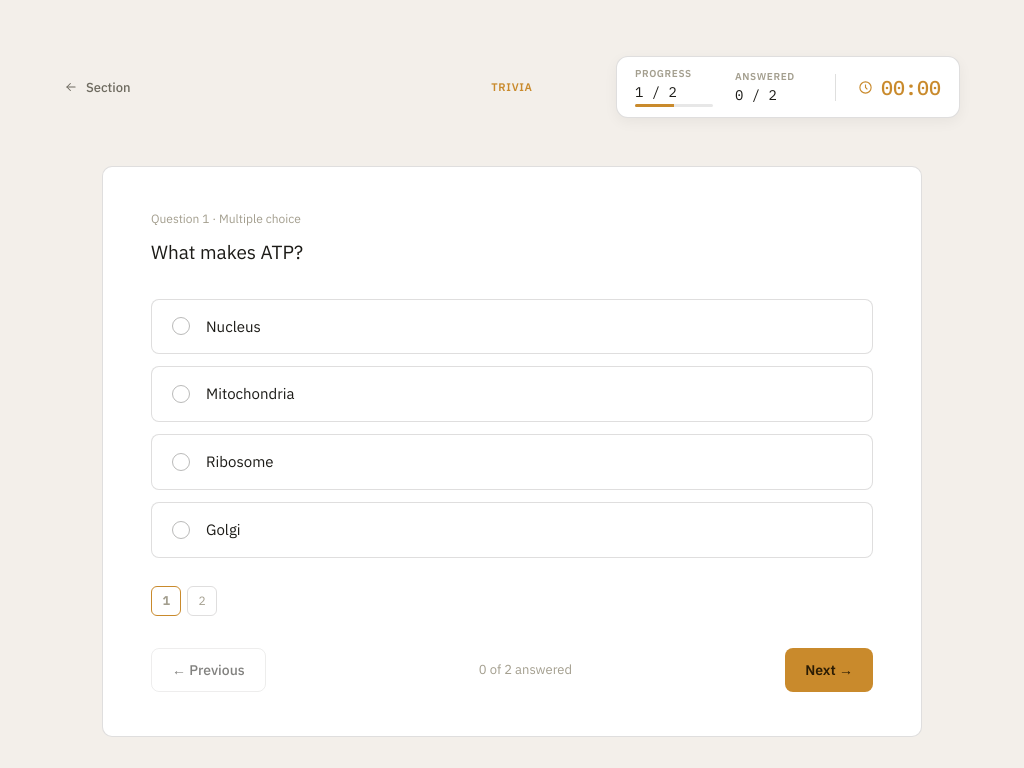
Test: QuizPage in Trivia › lets the student pick again when the answer could not be fetched
Click the radio button "Mitochondria".
click(512, 394)  # box [151,366,873,422]
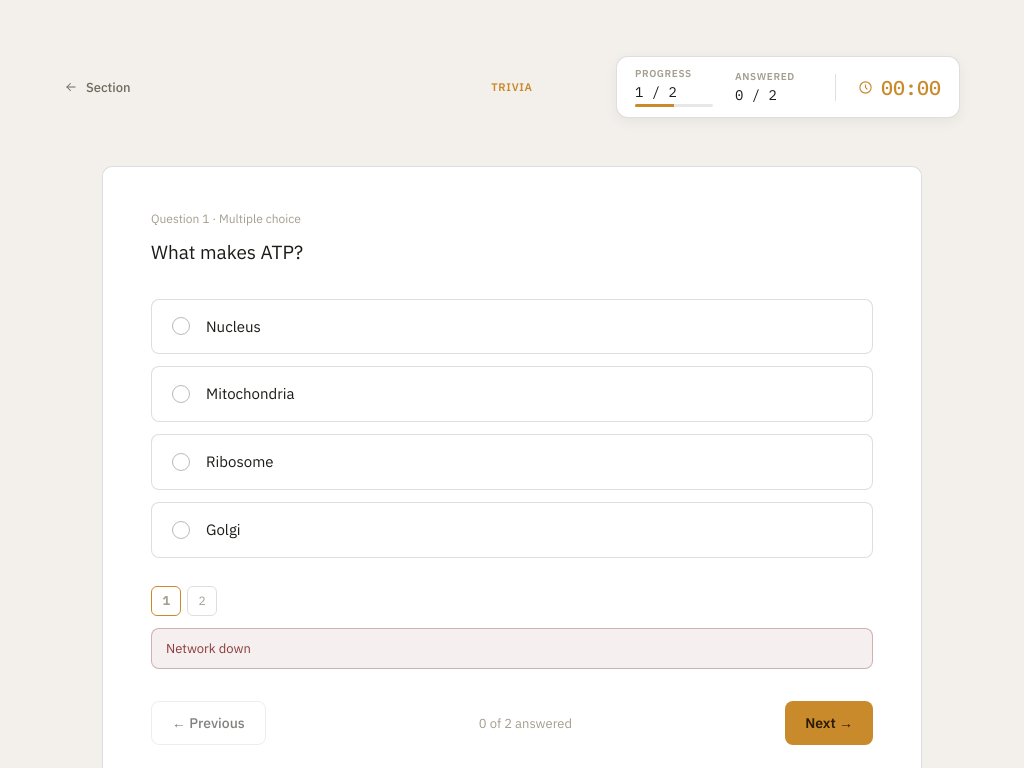
Now the text "Network down" is shown, box [151,628,873,669]
